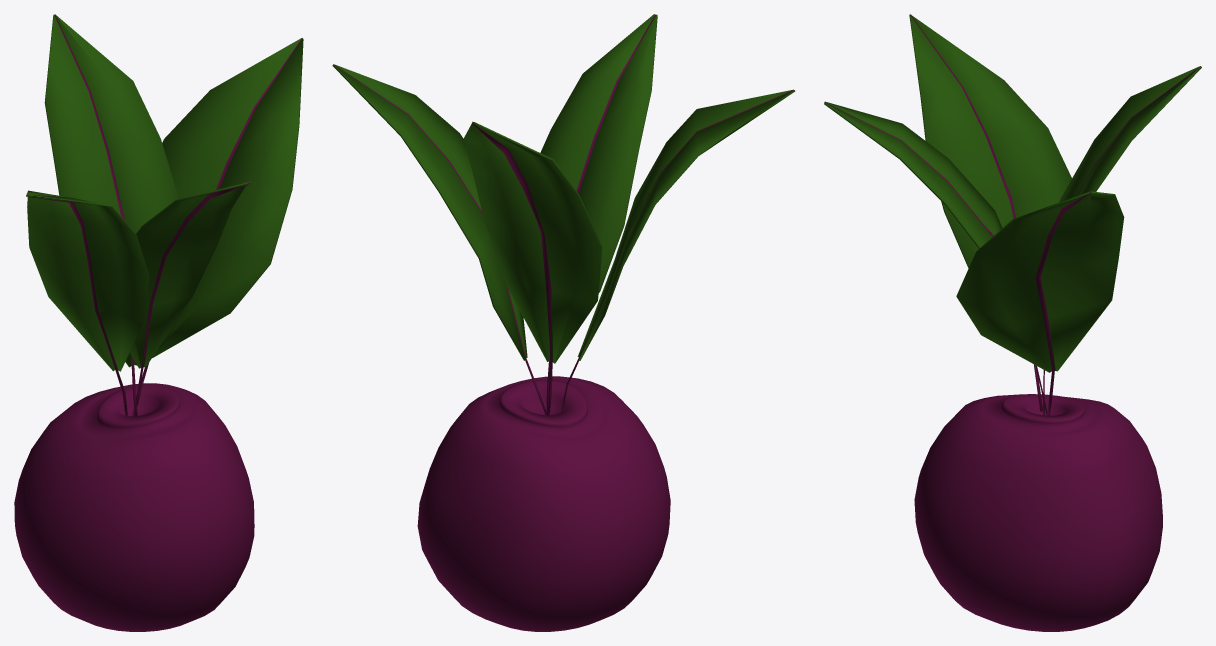
Rendered from BeterrabaVerde.fbx.
3 renders of one model, left to right at view 1: azimuth 30°, elevation 25°; view 2: azimuth 150°, elevation 25°; view 3: azimuth 270°, elevation 25°, orthographic.
Visible parts, largest first — view 1: BeterrabaVerde; view 2: BeterrabaVerde; view 3: BeterrabaVerde.
Part boxes in pixels (x1,y1,x2,y2): BeterrabaVerde: (14,14,303,631); BeterrabaVerde: (332,14,795,631); BeterrabaVerde: (824,14,1201,631).
Size of the model in its own units: 8 by 11.14 by 7.09.
